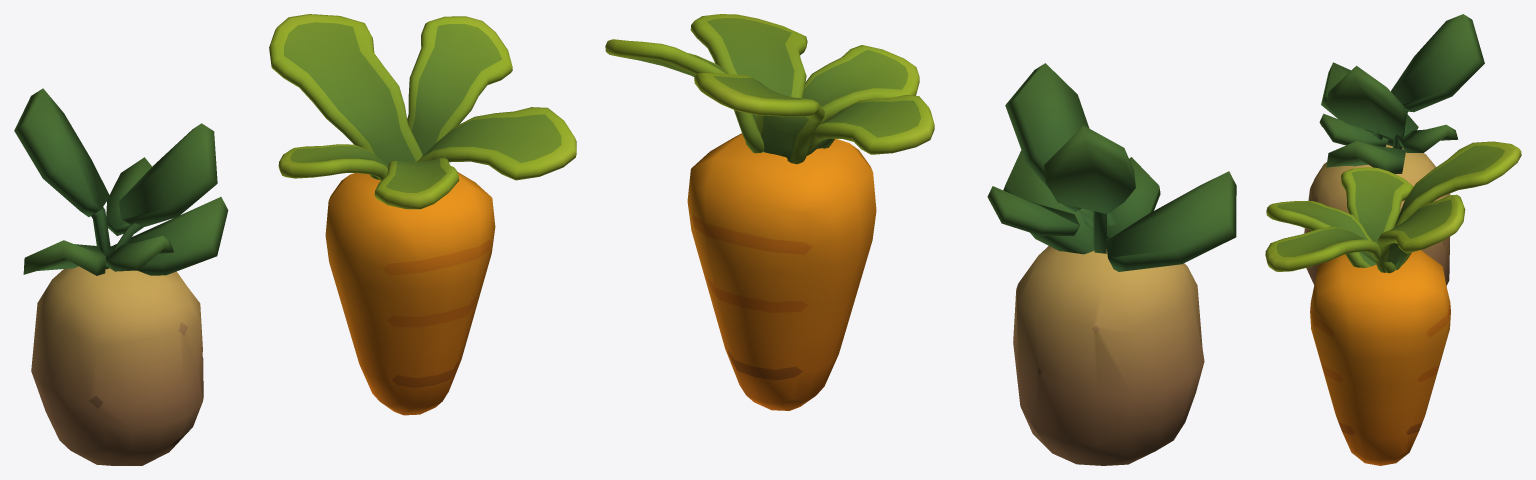
Rendered from carrot.fbx.
3 renders of one model, left to right at view 1: azimuth 30°, elevation 25°; view 2: azimuth 150°, elevation 25°; view 3: azimuth 270°, elevation 25°, orthographic. The views are drawn at different scales.
Visible parts, largest first — view 1: leafCarrot, vegetablePotato, vegetableCarrot, leafPotato; view 2: vegetableCarrot, vegetablePotato, leafPotato, leafCarrot; view 3: vegetableCarrot, leafCarrot, leafPotato, vegetablePotato.
Part boxes in pixels (left/top/right/bottom): leafCarrot: left=269, top=14, right=576, bottom=209; vegetablePotato: left=31, top=266, right=203, bottom=465; vegetableCarrot: left=325, top=172, right=495, bottom=415; leafPotato: left=14, top=88, right=228, bottom=275; vegetableCarrot: left=687, top=133, right=876, bottom=410; vegetablePotato: left=1013, top=246, right=1204, bottom=465; leafPotato: left=987, top=63, right=1236, bottom=271; leafCarrot: left=605, top=14, right=934, bottom=164; vegetableCarrot: left=1310, top=250, right=1450, bottom=465; leafCarrot: left=1265, top=141, right=1521, bottom=273; leafPotato: left=1319, top=14, right=1484, bottom=173; vegetablePotato: left=1304, top=144, right=1450, bottom=285.
Size of the model in its own units: 0.9786 by 0.6587 by 0.4867.
1 material, 1 textured.
